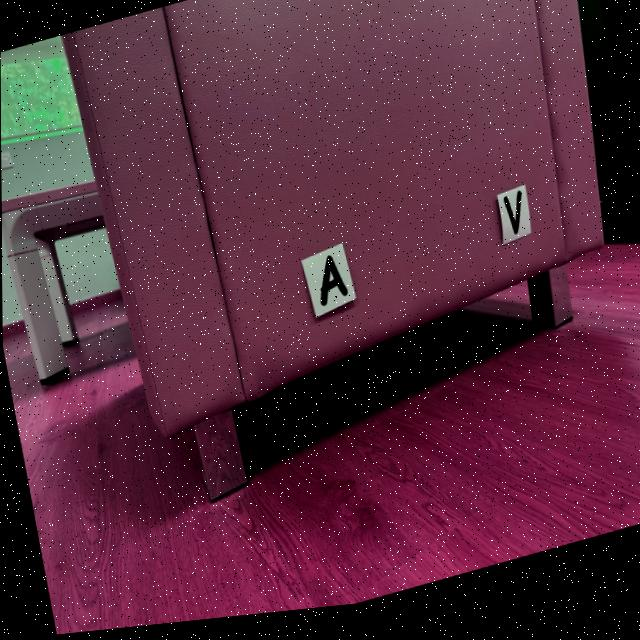A: (319, 262, 347, 312)
V: (503, 201, 521, 245)
